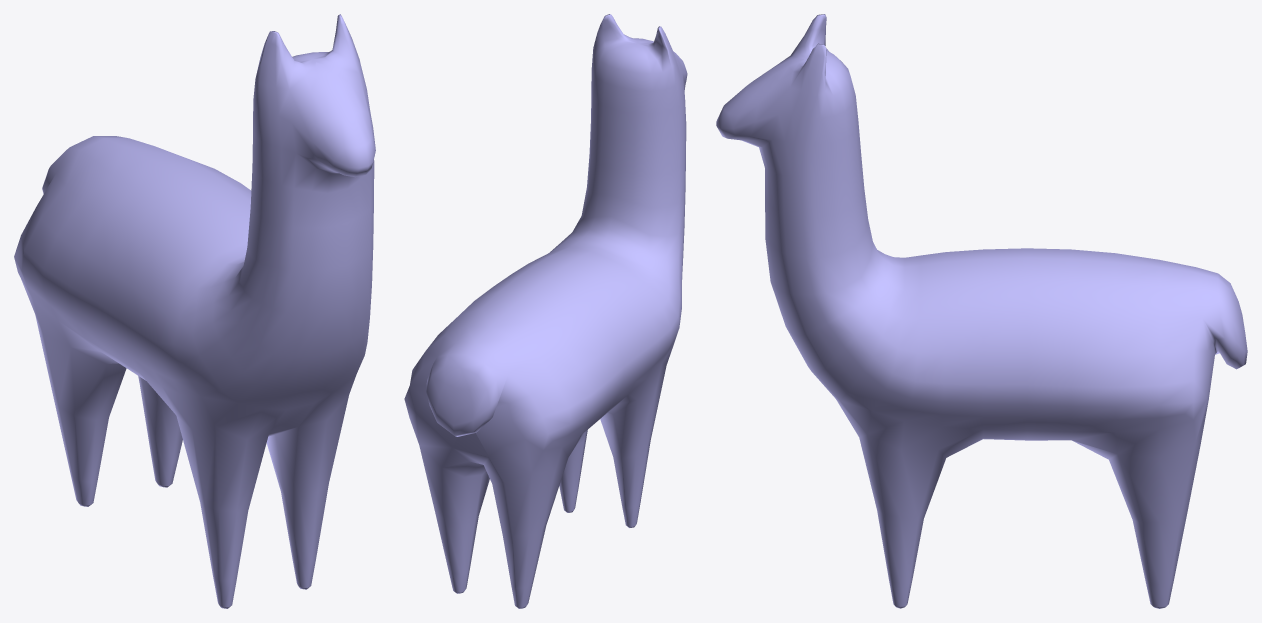
The model's file is Alpaca_Body.fbx.
The picture shows the model from 3 angles, left to right: view 1: azimuth 30°, elevation 25°; view 2: azimuth 150°, elevation 25°; view 3: azimuth 270°, elevation 25°; orthographic projection. The views are drawn at different scales.
Visible parts, largest first — view 1: Alpaca_Body1; view 2: Alpaca_Body1; view 3: Alpaca_Body1.
Part boxes in pixels (box(x1,y1,x2,y2)): Alpaca_Body1: box(14, 14, 375, 608); Alpaca_Body1: box(404, 14, 687, 608); Alpaca_Body1: box(716, 14, 1247, 608).
Size of the model in its own units: 4.4 by 12.16 by 10.46.
